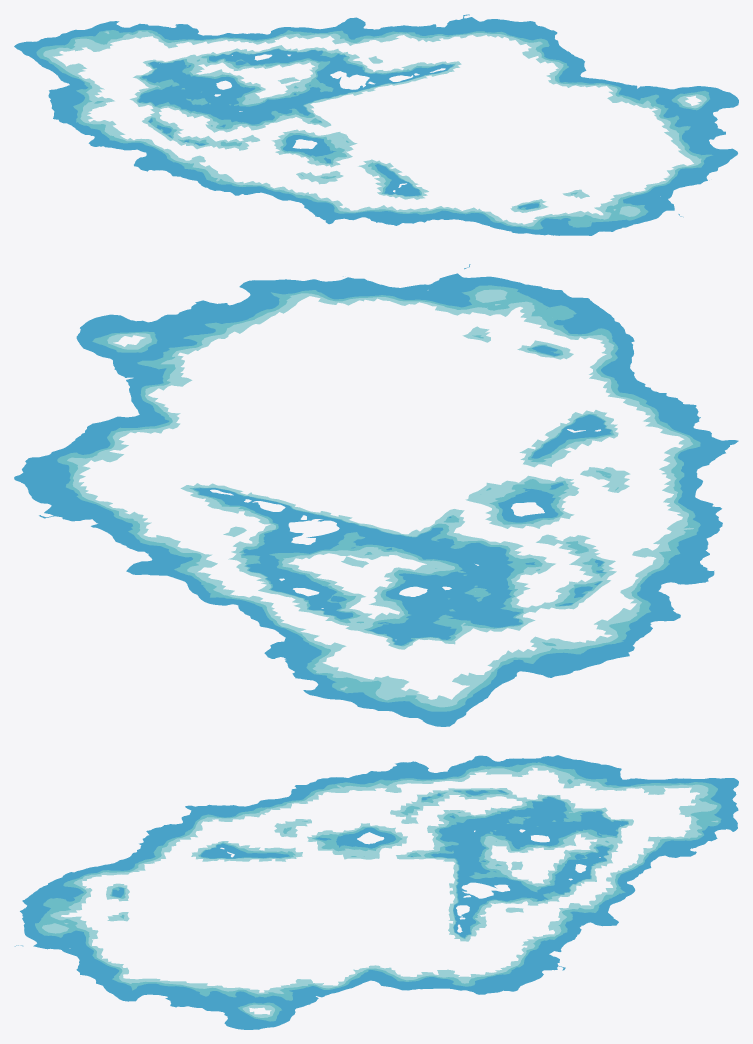
Rendered from Isl-orc1-Water.fbx.
The picture shows the model from 3 angles, top to bottom: view 1: azimuth 30°, elevation 25°; view 2: azimuth 150°, elevation 25°; view 3: azimuth 270°, elevation 25°; orthographic projection. The views are drawn at different scales.
Visible parts, largest first — view 1: Isl-orc1-Water; view 2: Isl-orc1-Water; view 3: Isl-orc1-Water.
Boxes of the visible parts, x1,y1,x2,y2 form: Isl-orc1-Water: (14, 14, 738, 235); Isl-orc1-Water: (14, 264, 738, 726); Isl-orc1-Water: (14, 755, 738, 1029).
Size of the model in its own units: 124 by 0 by 138.
